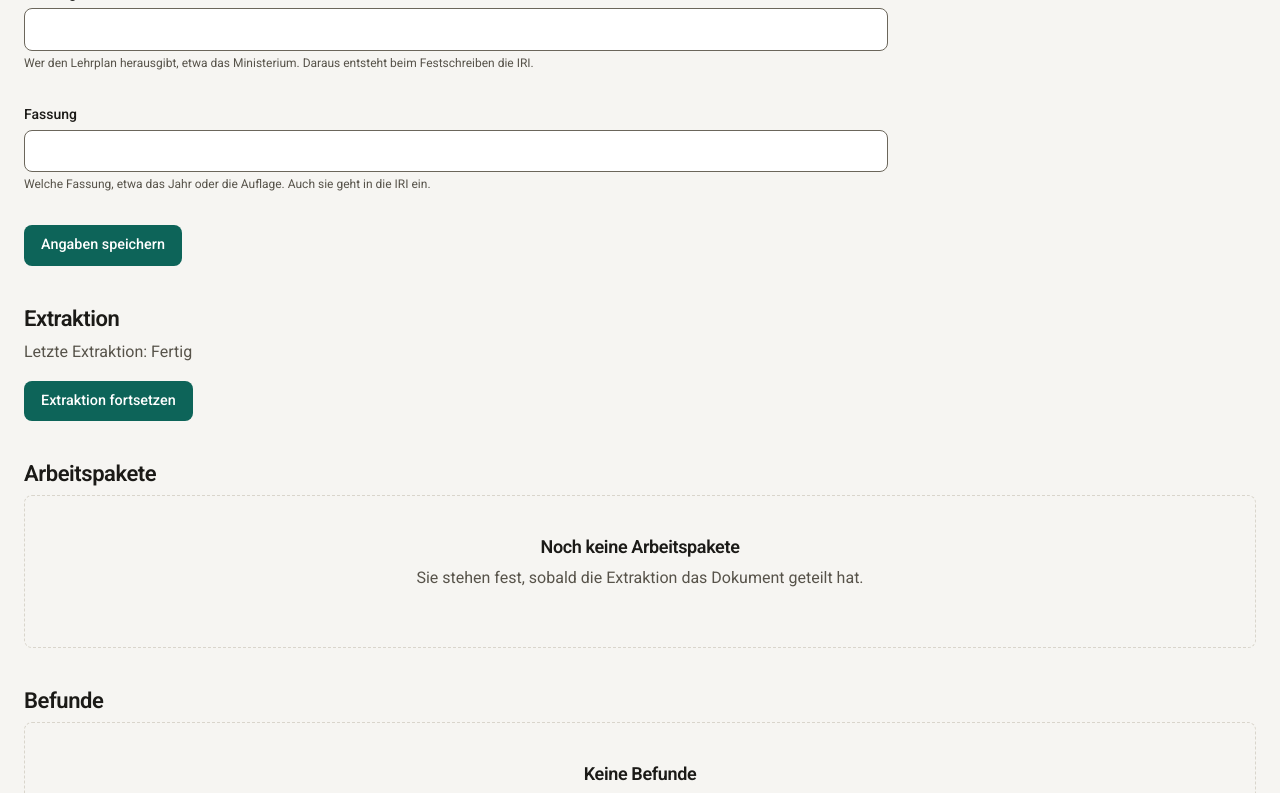
it: a document's page › says a start refused in its own words
(page scrolled)
Step 1. Click the button with test id "extraction-resume" → click(108, 401), box x1=24 y1=381 x2=193 y2=421
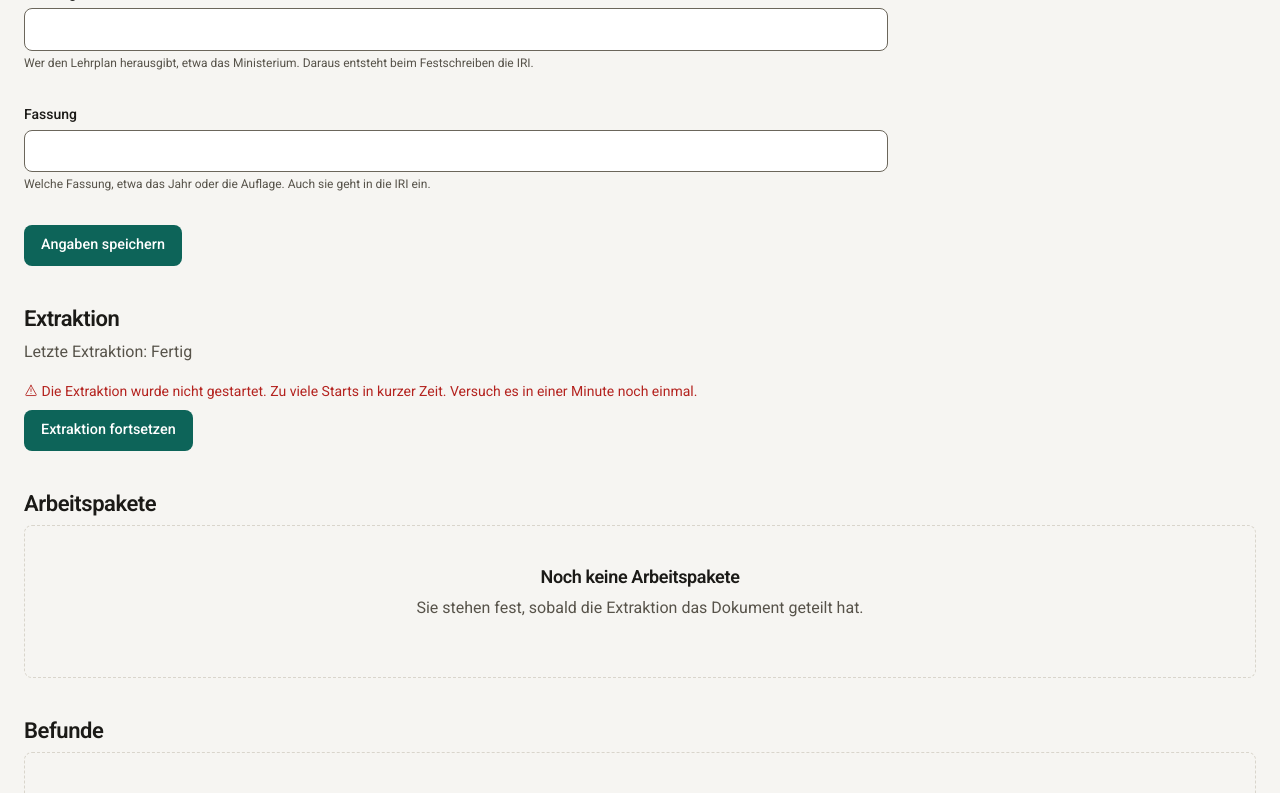
Expected: the message shows "Zu viele Starts in kurzer Zeit. Versuch es in einer Minute noch einmal.", x1=270 y1=383 x2=697 y2=399
